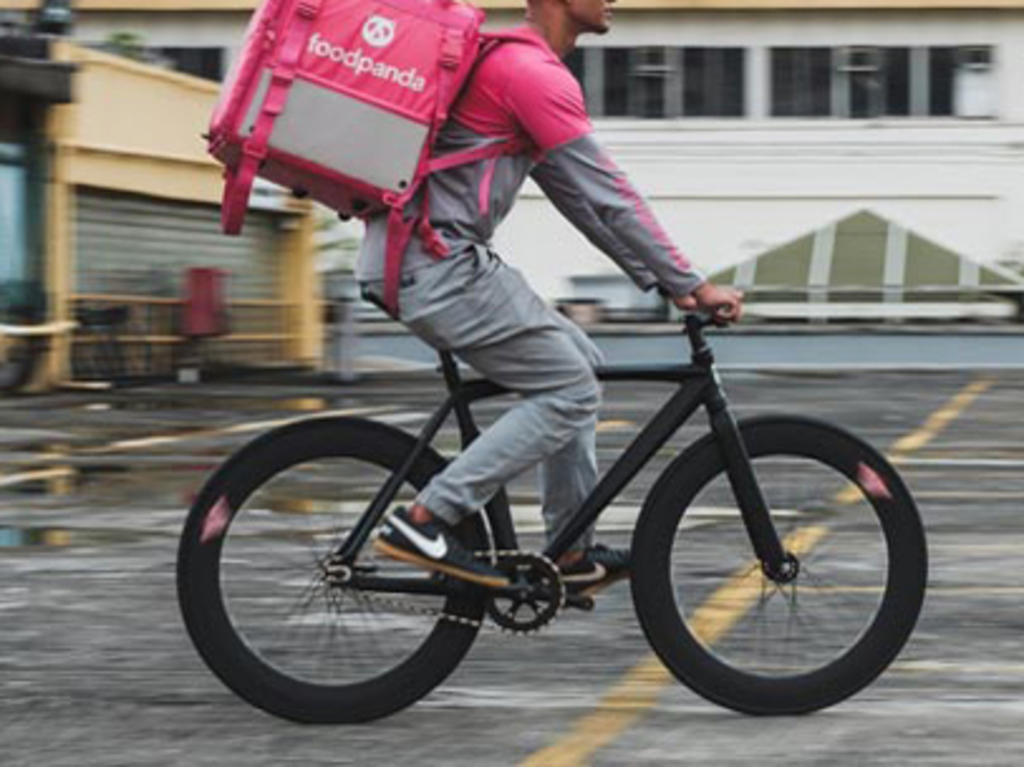bicycle: (119, 291, 972, 722)
